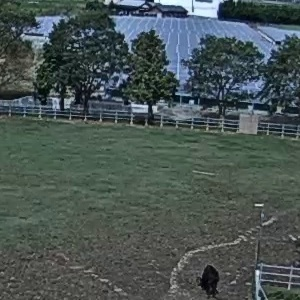cow: (186, 257, 231, 299)
